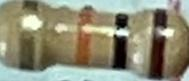Black: (109, 12, 131, 69)
Brown: (146, 8, 169, 80)
Orange: (74, 11, 96, 65)
Side-Silver: (17, 2, 40, 70)
